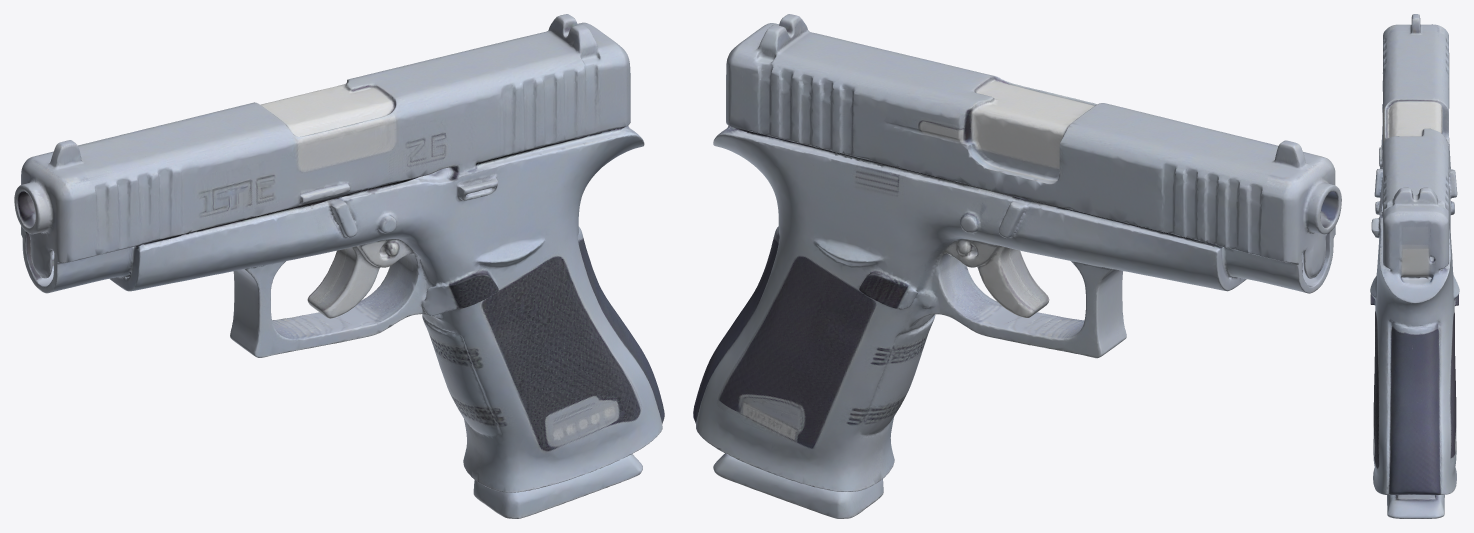
File: pistol.glb
3 renders of one model, left to right at view 1: azimuth 30°, elevation 25°; view 2: azimuth 150°, elevation 25°; view 3: azimuth 270°, elevation 25°, orthographic. The views are drawn at different scales.
Parts seen in each view (by area): view 1: mesh_node; view 2: mesh_node; view 3: mesh_node.
Part boxes in pixels (bbox=[...]): mesh_node: bbox=[14, 14, 664, 518]; mesh_node: bbox=[693, 14, 1341, 518]; mesh_node: bbox=[1370, 14, 1459, 518].
Size of the model in its own units: 1.9 by 1.35 by 0.3365.
1 material, 1 textured.
